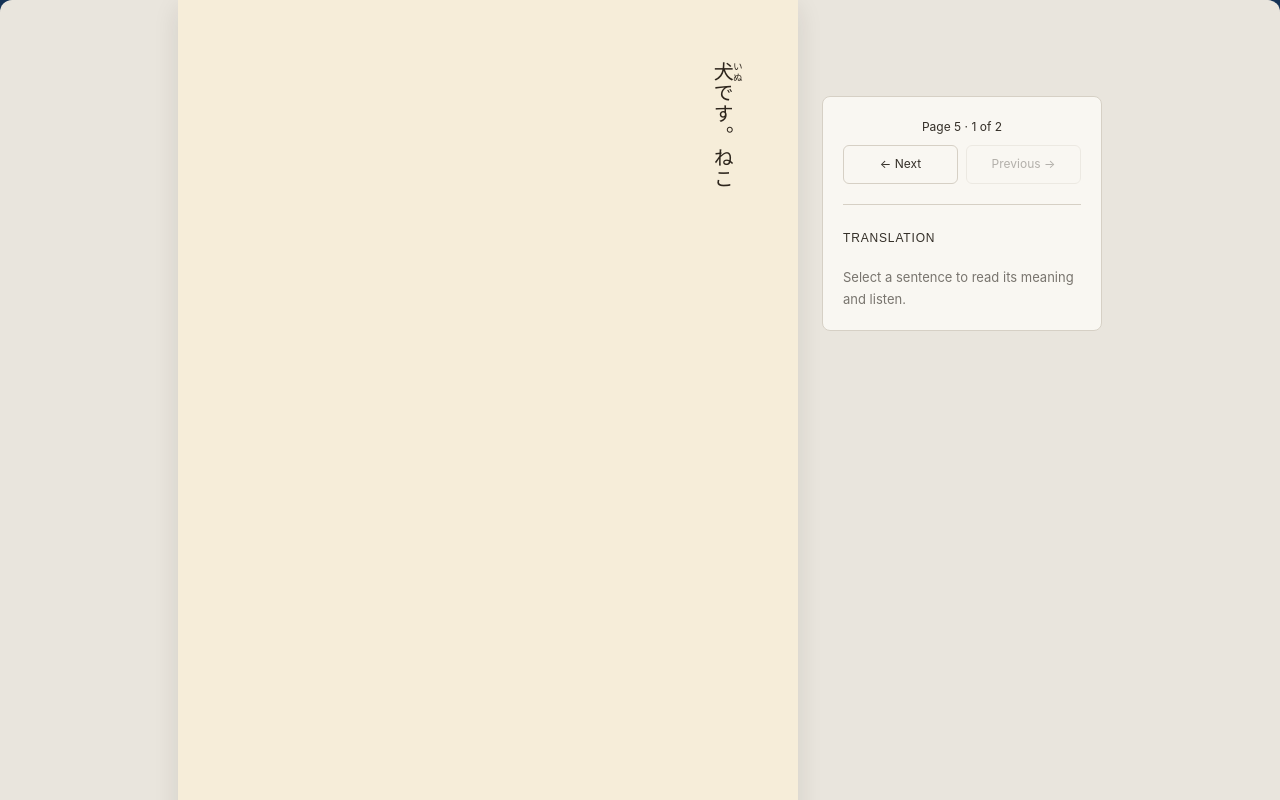
private reading interactions › keeps printed furigana and highlights on hover without showing playback or translation
The image size is (1280, 800).
Hover over the button with aria-label "犬です。" at [727, 104], box [711,61,742,147]
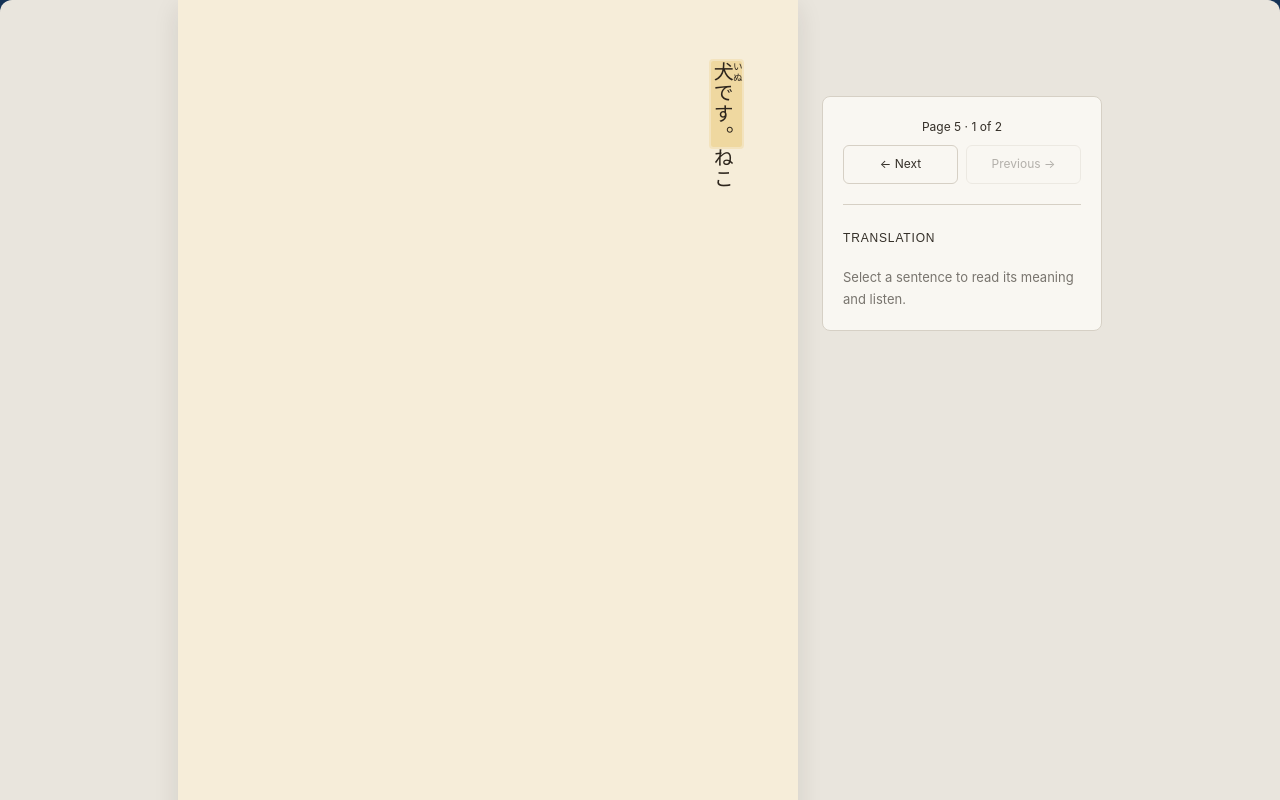
Expected: the text "いぬ" is shown, [732,61,743,83]
Expected: the button with aria-label "犬です。" has class "is-highlighted"
Click the button with aria-label "犬です。". click: [727, 104]
box: [711,61,742,147]
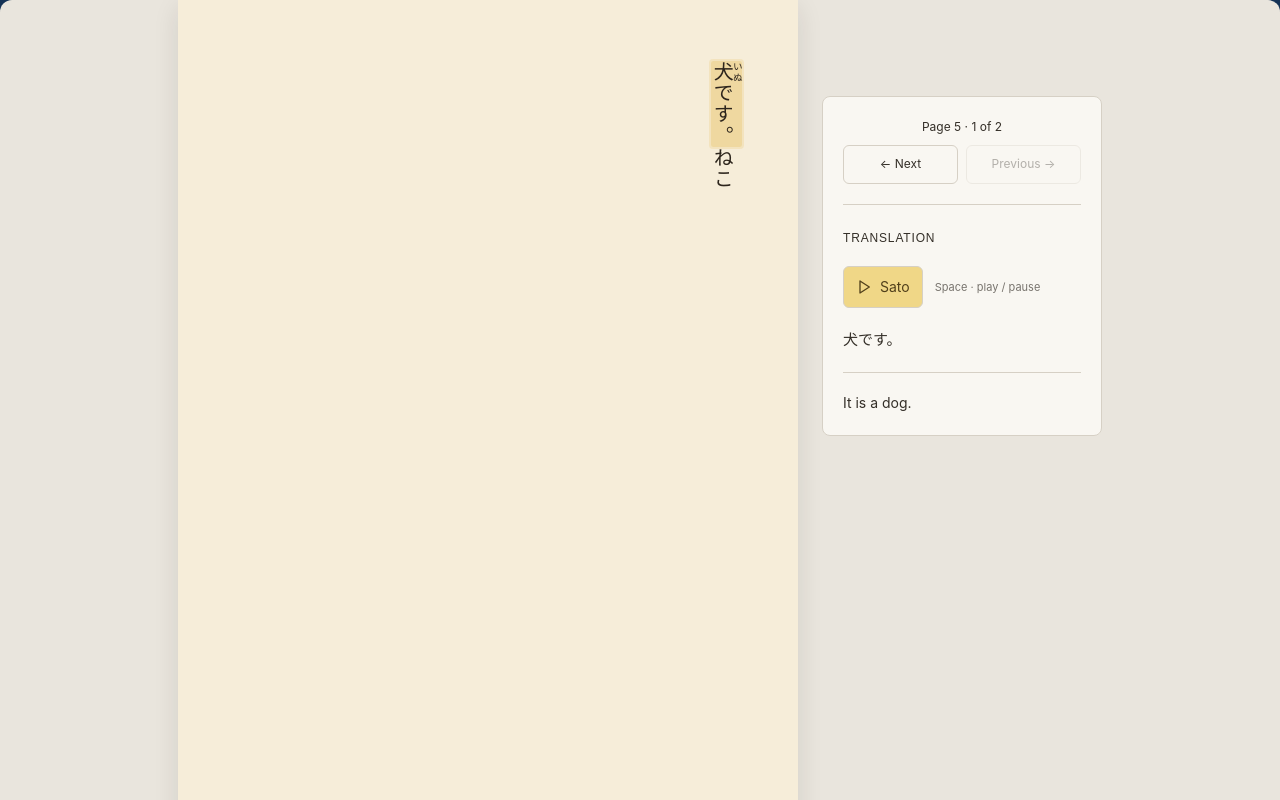
Expected: the text "It is a dog." is shown, [843,394,912,411]
Expected: the button with aria-label "Play sentence" is shown, [843,266,923,308]
